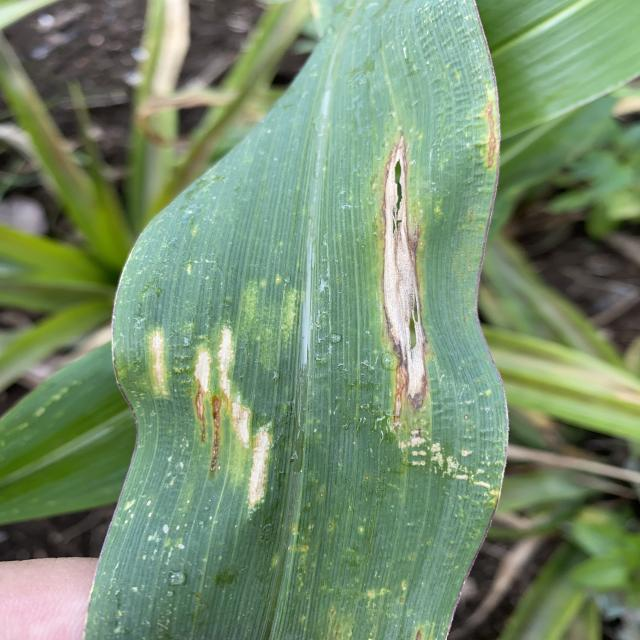Corn_Leaf_Blight: (117, 30, 499, 640)
